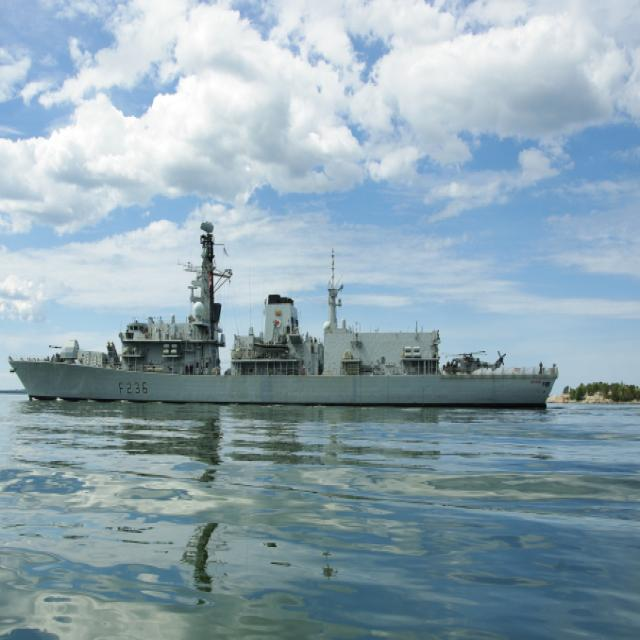Fragata: (7, 224, 561, 408)
